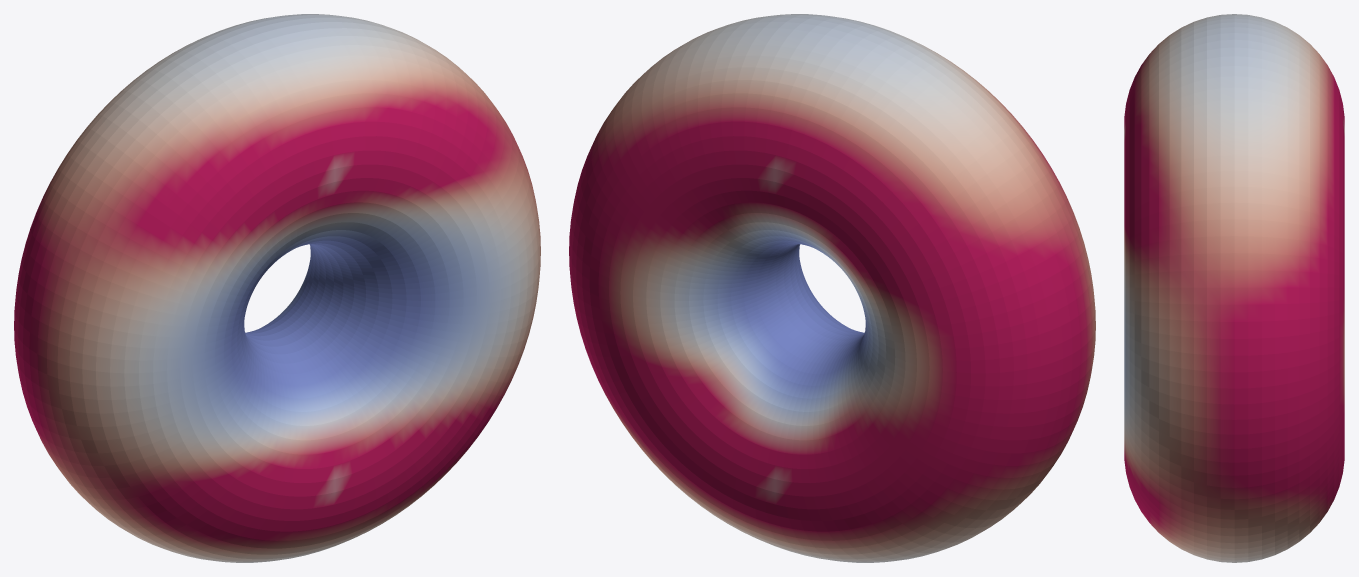
3 views of the same model, side by side, from view 1: azimuth 30°, elevation 25°; view 2: azimuth 150°, elevation 25°; view 3: azimuth 270°, elevation 25° (orthographic). The views are drawn at different scales.
Visible parts, largest first — view 1: world; view 2: world; view 3: world.
Part boxes in pixels (x1=…): world: x1=14, y1=14, x2=540, y2=562; world: x1=569, y1=14, x2=1095, y2=562; world: x1=1124, y1=14, x2=1344, y2=562.
Bounding box in the file's own units: 20.44 × 20.44 × 8.21.
